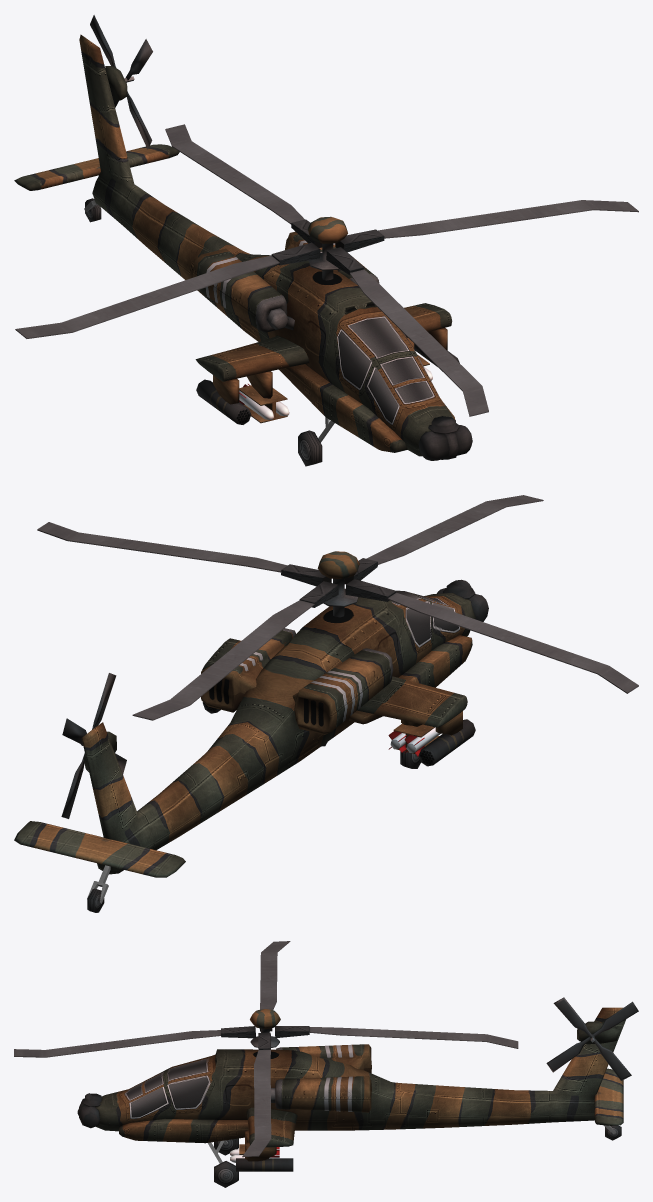
The model's file is helicopter.glb.
The picture shows the model from 3 angles, top to bottom: view 1: azimuth 30°, elevation 25°; view 2: azimuth 150°, elevation 25°; view 3: azimuth 270°, elevation 25°; orthographic projection. The views are drawn at different scales.
Parts seen in each view (by area): view 1: Helicopter_Body_Cube.001, Propellers_Cube.000, Back_Propeller.001_Cube.003; view 2: Helicopter_Body_Cube.001, Propellers_Cube.000, Back_Propeller_Cube.004; view 3: Helicopter_Body_Cube.001, Propellers_Cube.000, Back_Propeller.001_Cube.003, Back_Propeller_Cube.004.
Boxes of the visible parts, x1,y1,x2,y2 form: Helicopter_Body_Cube.001: [14, 34, 472, 466]; Propellers_Cube.000: [15, 124, 638, 416]; Back_Propeller.001_Cube.003: [90, 15, 152, 149]; Helicopter_Body_Cube.001: [14, 551, 488, 912]; Propellers_Cube.000: [37, 495, 638, 720]; Back_Propeller_Cube.004: [61, 673, 116, 818]; Helicopter_Body_Cube.001: [77, 1007, 625, 1187]; Propellers_Cube.000: [14, 941, 518, 1157]; Back_Propeller.001_Cube.003: [546, 1001, 638, 1072]; Back_Propeller_Cube.004: [553, 997, 631, 1080].
Bounding box in the file's own units: 7.29 × 2.88 × 9.02.
1 material, 1 textured.
